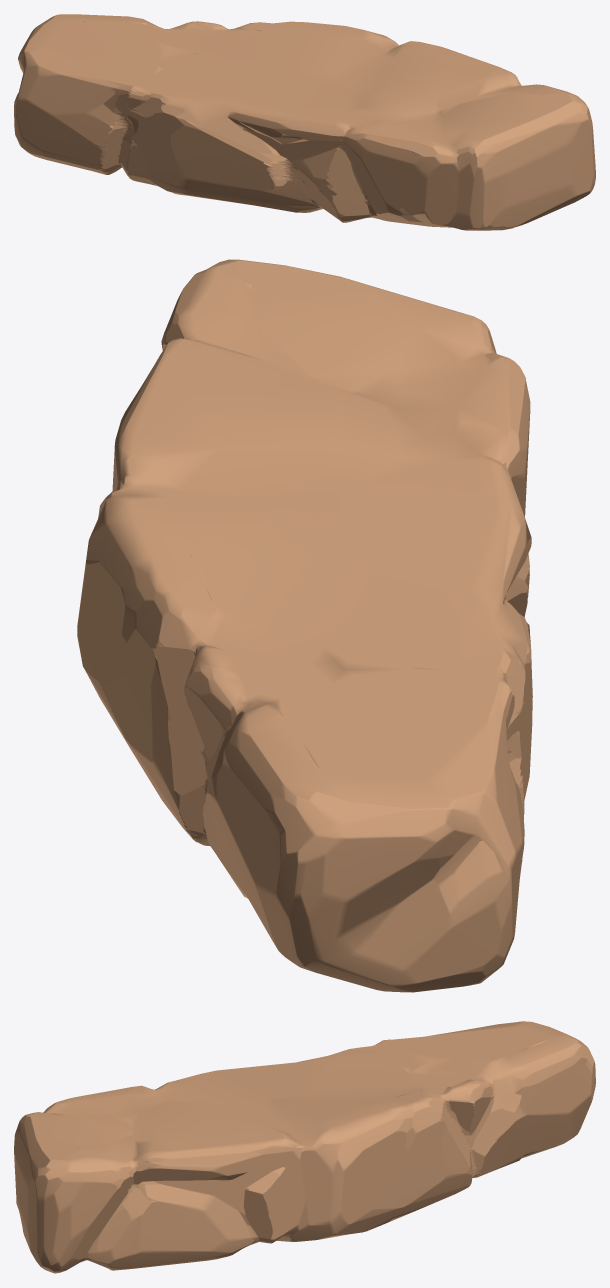
3 views of the same model, one above another, from view 1: azimuth 30°, elevation 25°; view 2: azimuth 150°, elevation 25°; view 3: azimuth 270°, elevation 25° (orthographic). The views are drawn at different scales.
Parts seen in each view (by area): view 1: Mesh_31_LOD0; view 2: Mesh_31_LOD0; view 3: Mesh_31_LOD0.
Boxes of the visible parts, x1,y1,x2,y2 form: Mesh_31_LOD0: (14, 14, 595, 230); Mesh_31_LOD0: (77, 259, 532, 992); Mesh_31_LOD0: (14, 1021, 595, 1273).
Size of what is drawn, in the model's own units: 2249 by 754 by 2821.
